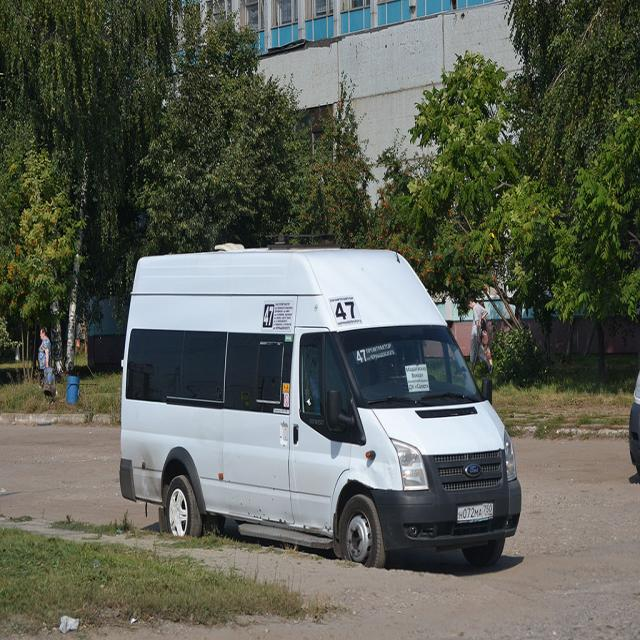number-of-bus: (332, 294, 364, 330), (260, 300, 276, 333), (355, 349, 370, 365)
